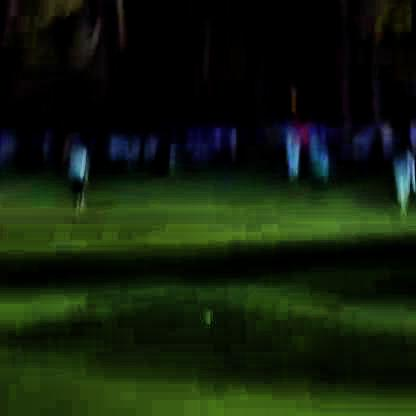golfball: (203, 303, 210, 319)
